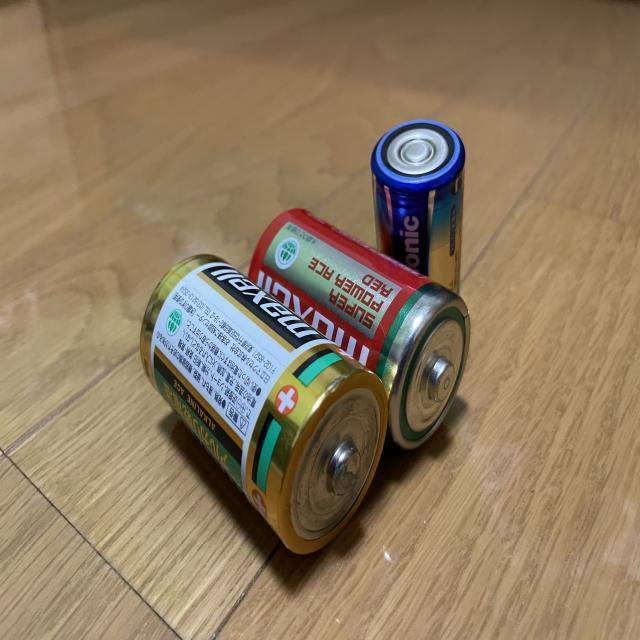Hazard: (138, 251, 389, 558), (244, 204, 472, 456), (368, 119, 468, 298)
